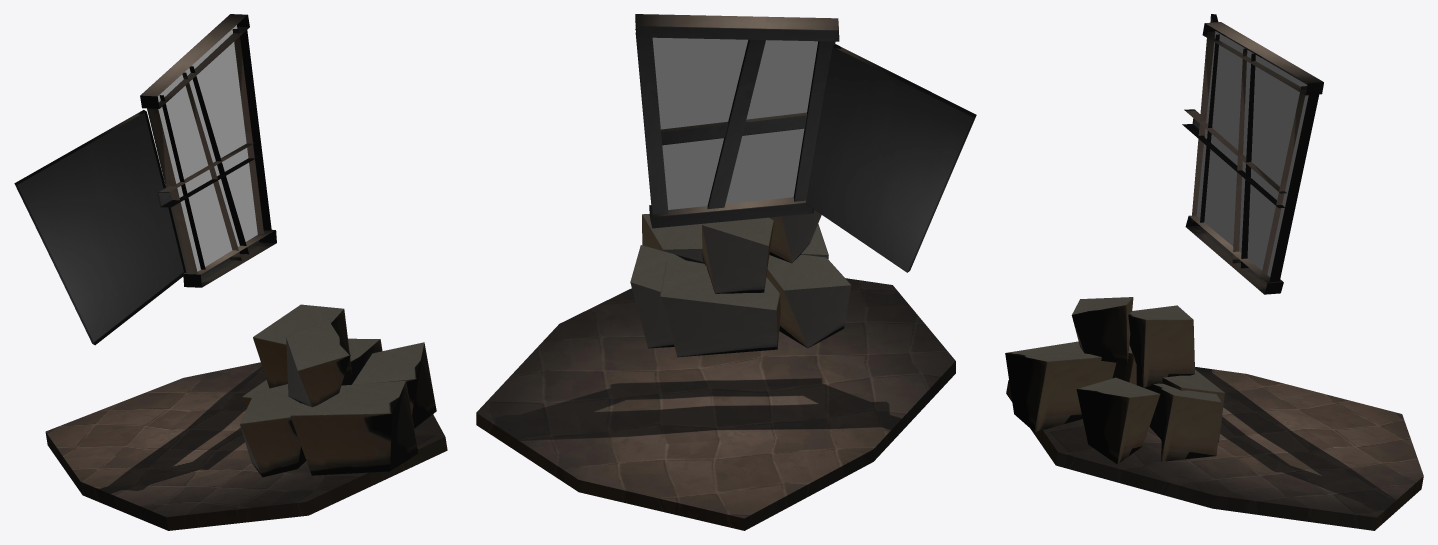
File: newWindowBackgroundElement.fbx
The picture shows the model from 3 angles, left to right: view 1: azimuth 30°, elevation 25°; view 2: azimuth 150°, elevation 25°; view 3: azimuth 270°, elevation 25°; orthographic projection. The views are drawn at different scales.
Parts seen in each view (by area): view 1: polySurface258, pCube14, polySurface243, pPlane1; view 2: pCube14, polySurface258, polySurface243, pPlane1; view 3: pCube14, polySurface243, pPlane1, polySurface258.
Part boxes in pixels (box(x1,y1,x2,y2)): polySurface258: box(14, 14, 276, 345); pCube14: box(45, 362, 447, 530); polySurface243: box(240, 304, 436, 477); pPlane1: box(157, 25, 257, 271); pCube14: box(476, 278, 955, 530); polySurface258: box(635, 14, 976, 272); polySurface243: box(630, 209, 851, 357); pPlane1: box(652, 37, 817, 209); pCube14: box(1006, 367, 1423, 530); polySurface243: box(1005, 297, 1224, 464); pPlane1: box(1196, 31, 1308, 276); polySurface258: box(1182, 14, 1323, 294).
Size of the model in its own units: 56.64 by 57.5 by 52.39.
